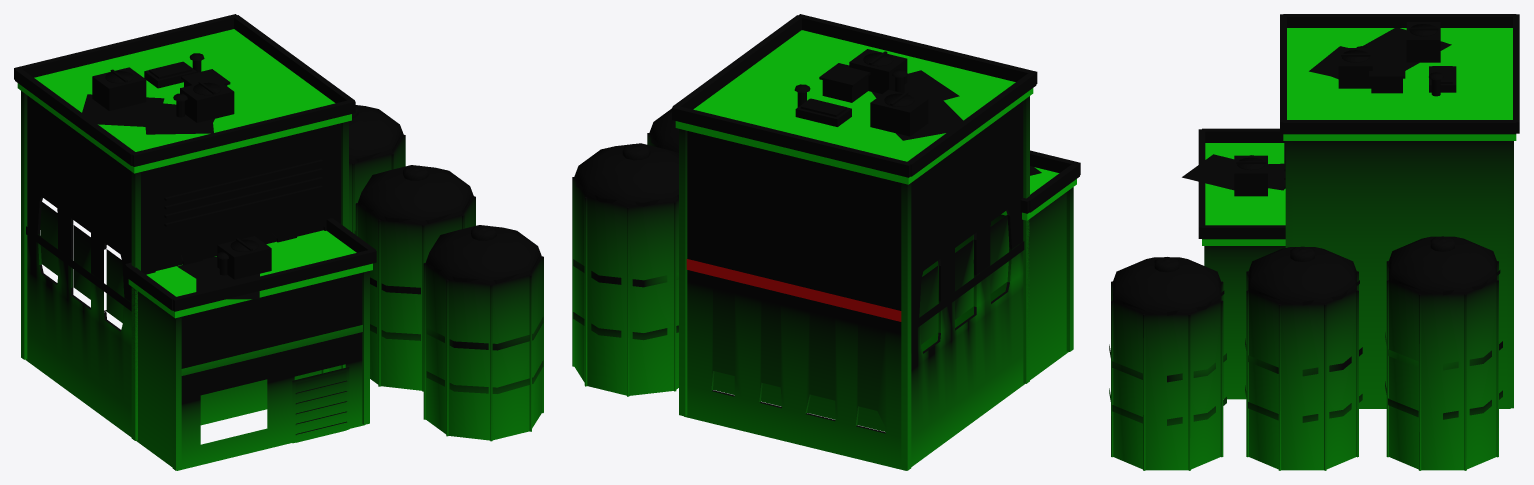
The model's file is chemicalplant.glb.
The picture shows the model from 3 angles, left to right: view 1: azimuth 30°, elevation 25°; view 2: azimuth 150°, elevation 25°; view 3: azimuth 270°, elevation 25°; orthographic projection. The views are drawn at different scales.
Parts seen in each view (by area): view 1: lod0; view 2: lod0; view 3: lod0.
Part boxes in pixels (box(x1,y1,x2,y2)): lod0: box(14, 14, 543, 470); lod0: box(572, 14, 1080, 470); lod0: box(1109, 14, 1519, 470).
Size of what is drawn, in the model's own units: 17.67 by 14.84 by 18.16.
